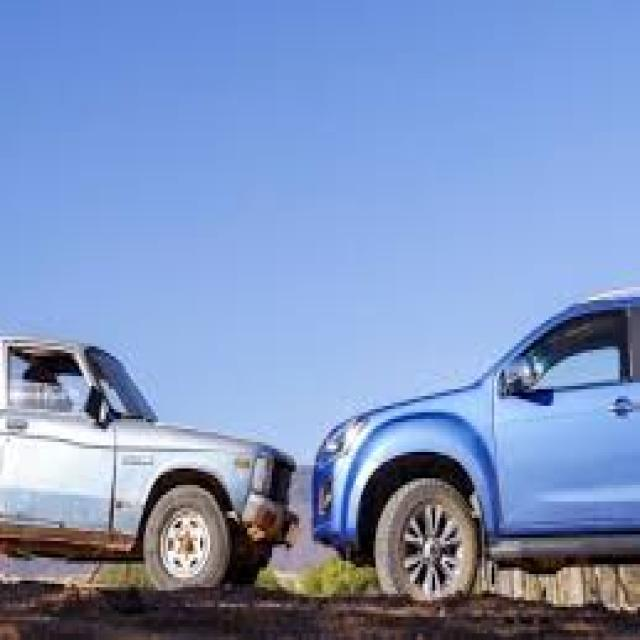Pickup Trucks: (309, 284, 640, 614)
